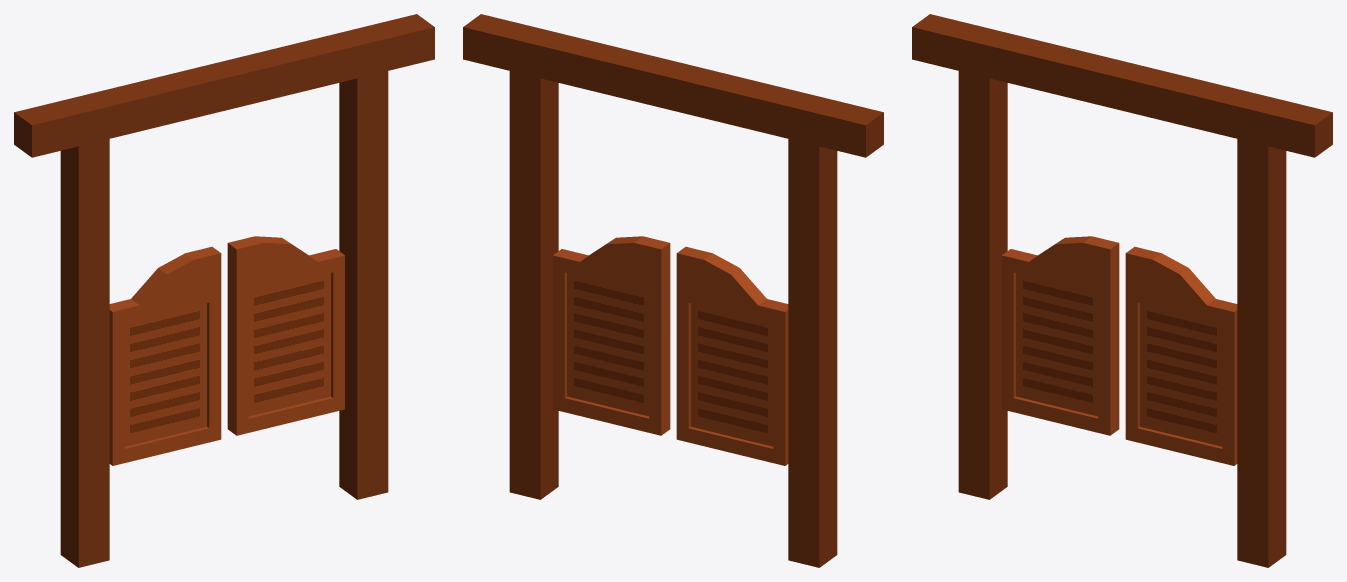
Rendered from doors.fbx.
3 views of the same model, side by side, from view 1: azimuth 30°, elevation 25°; view 2: azimuth 150°, elevation 25°; view 3: azimuth 330°, elevation 25° (orthographic).
Parts seen in each view (by area): view 1: door1, cuboid_1, cuboid_2, door1_1, cuboid; view 2: door1, cuboid_1, cuboid_2, door1_1, cuboid; view 3: door1_1, cuboid_1, cuboid, door1, cuboid_2.
Part boxes in pixels (left/top/right/bottom): door1: left=227, top=236, right=344, bottom=435; cuboid_1: left=14, top=14, right=434, bottom=157; cuboid_2: left=60, top=139, right=109, bottom=567; door1_1: left=109, top=246, right=221, bottom=465; cuboid: left=339, top=71, right=388, bottom=499; door1: left=553, top=236, right=670, bottom=435; cuboid_1: left=463, top=14, right=883, bottom=157; cuboid_2: left=788, top=139, right=837, bottom=567; door1_1: left=676, top=246, right=788, bottom=465; cuboid: left=509, top=71, right=558, bottom=499; door1_1: left=1002, top=236, right=1119, bottom=435; cuboid_1: left=912, top=14, right=1332, bottom=157; cuboid: left=1237, top=139, right=1286, bottom=567; door1: left=1125, top=246, right=1237, bottom=465; cuboid_2: left=958, top=71, right=1007, bottom=499.
Bounding box in the file's own units: 325 × 350 × 25.
2 materials, 2 textured.
